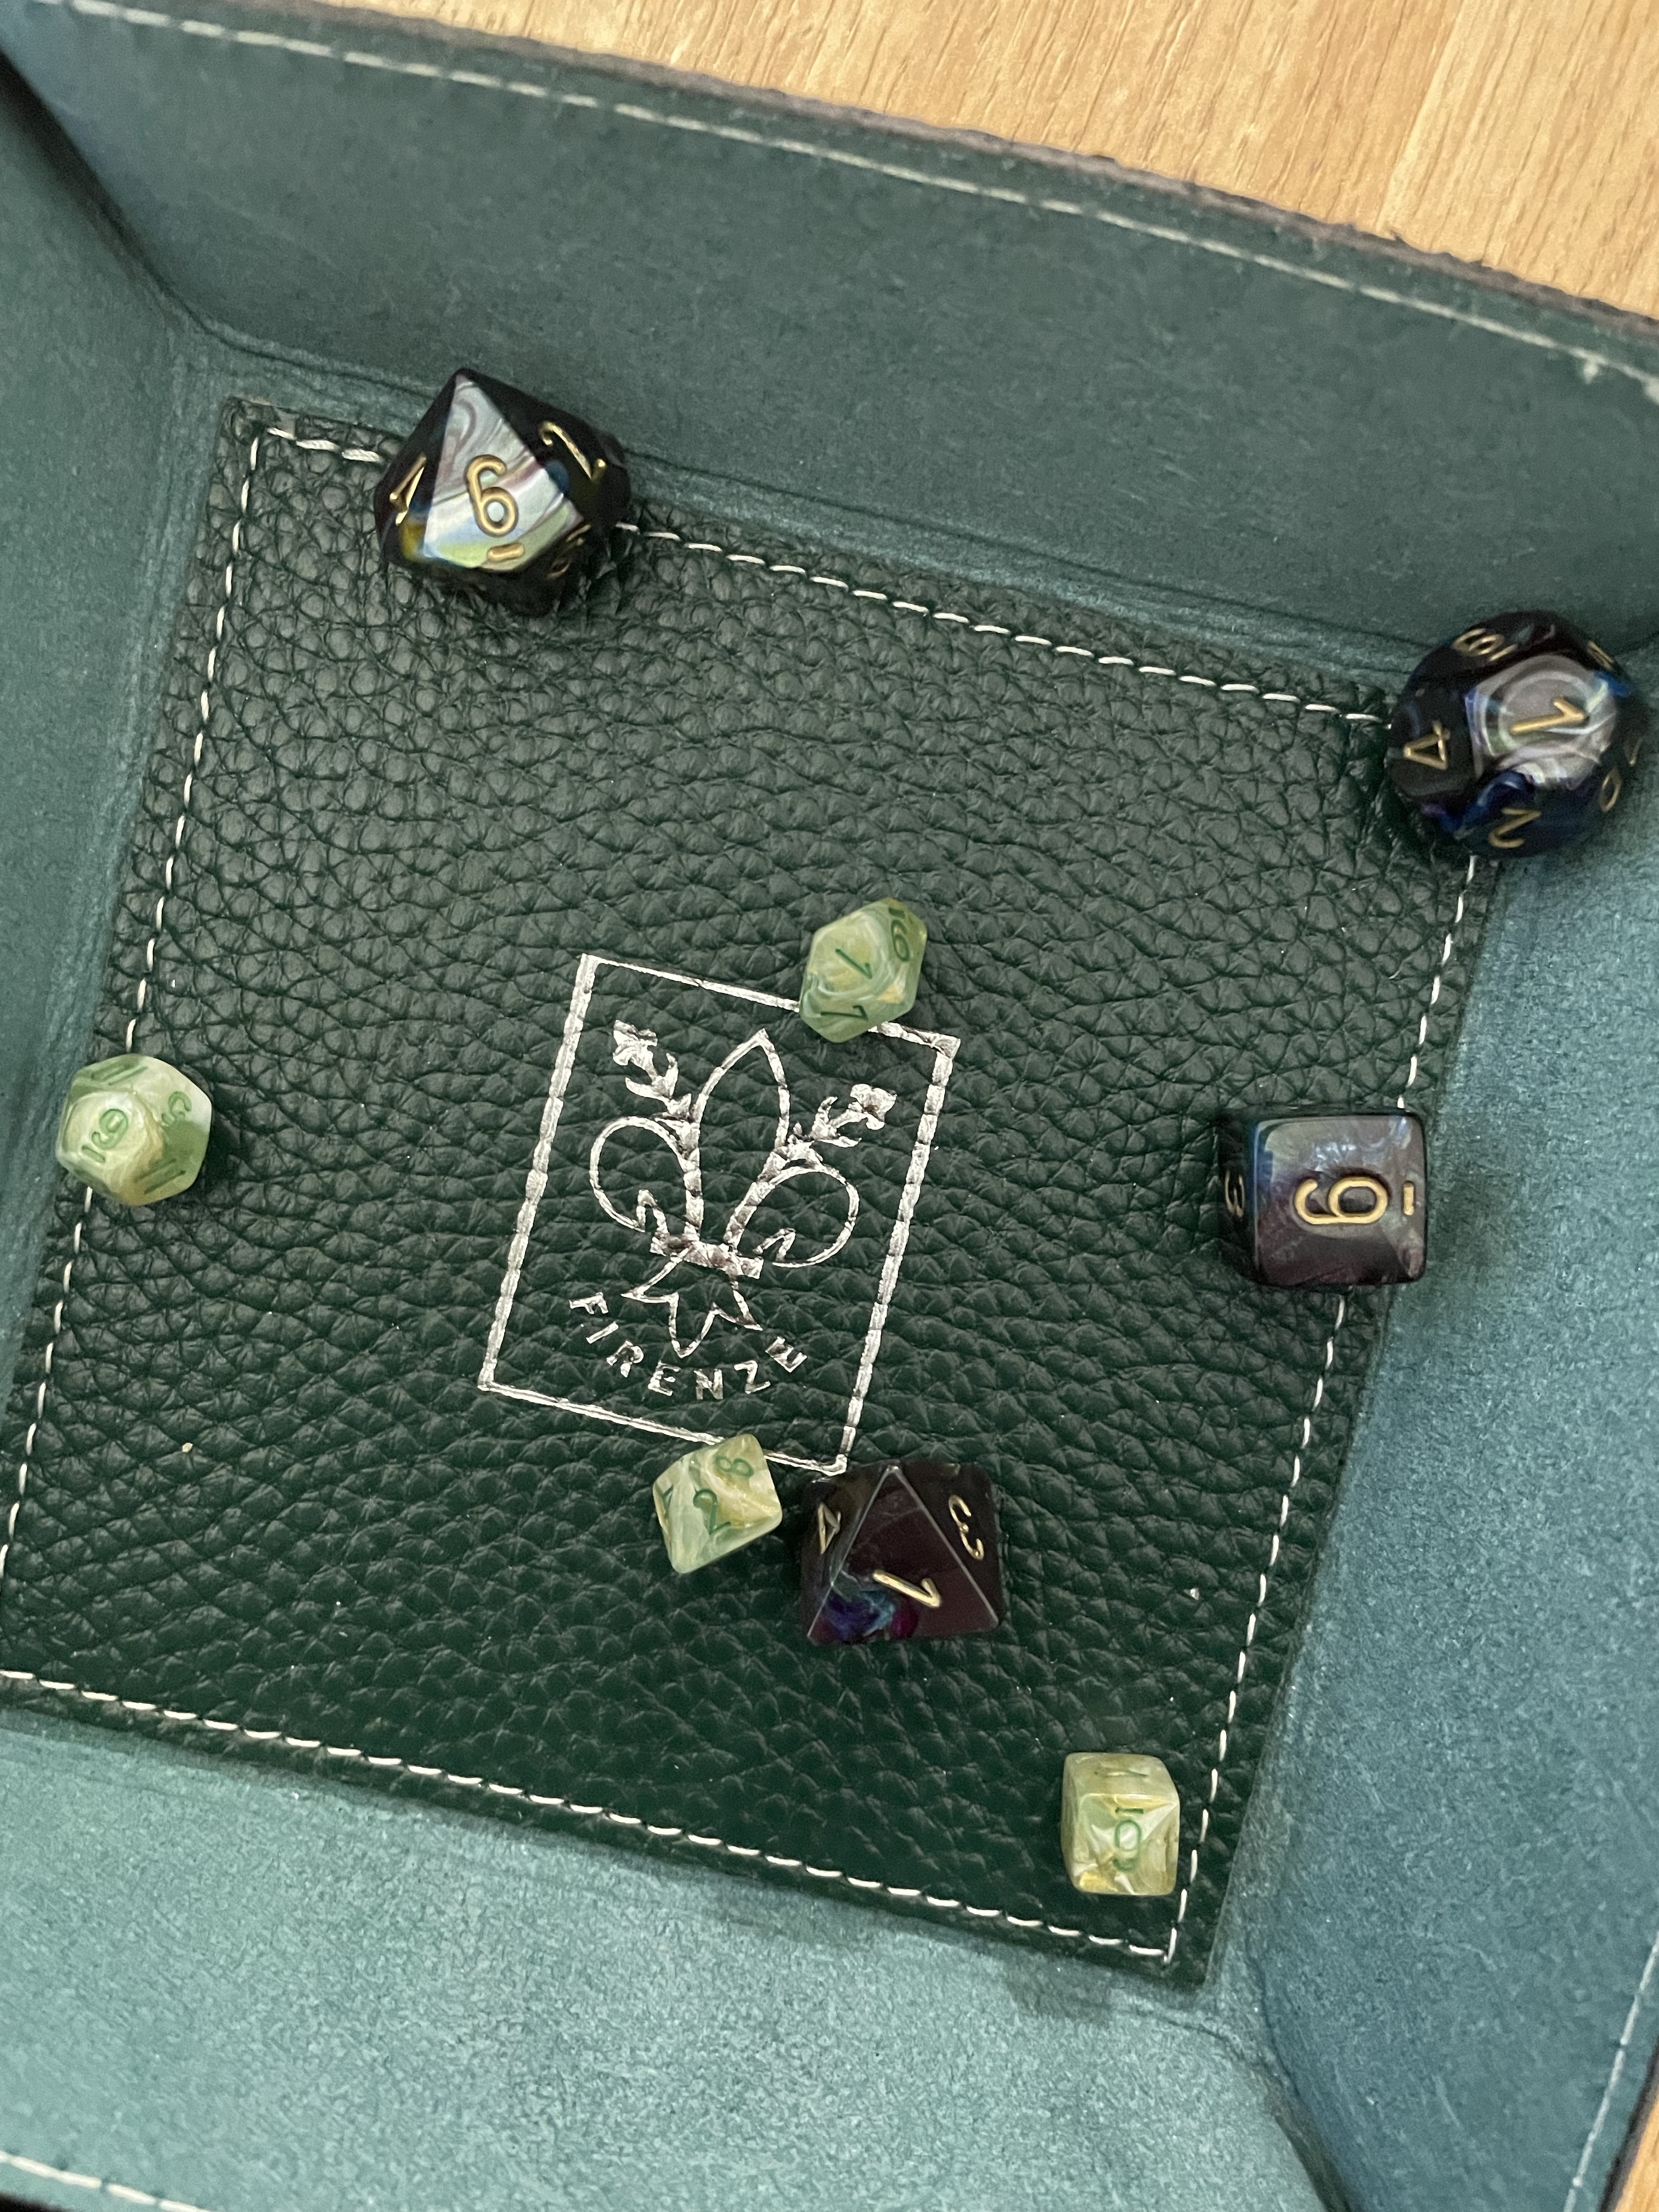nine: (30, 1029, 256, 1223)
one: (1356, 582, 1657, 894), (775, 1430, 1032, 1674), (770, 873, 965, 1096)
six: (1183, 1064, 1506, 1338), (356, 338, 660, 617), (1000, 1723, 1236, 1928)
two: (615, 1411, 814, 1590)
